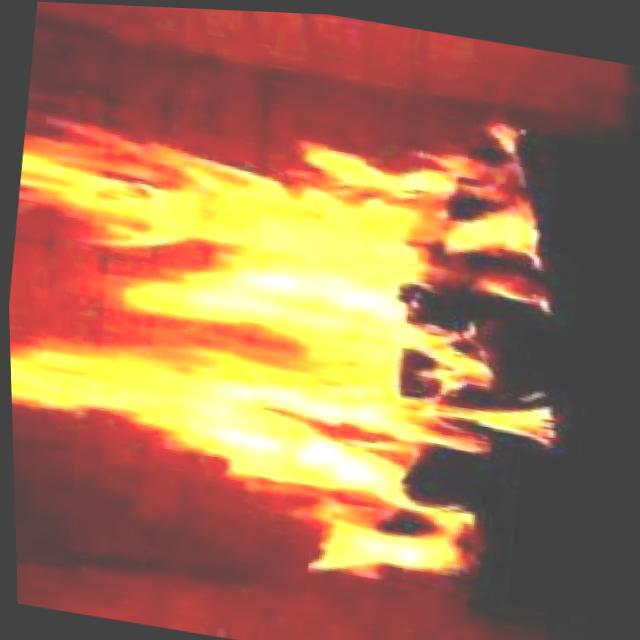helmet: (1, 29, 613, 621)
